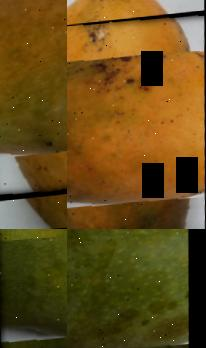PartiallyRipe: (0, 0, 67, 200)
Ripe: (67, 9, 206, 229)
Unripe: (67, 229, 205, 348), (0, 229, 67, 348)
